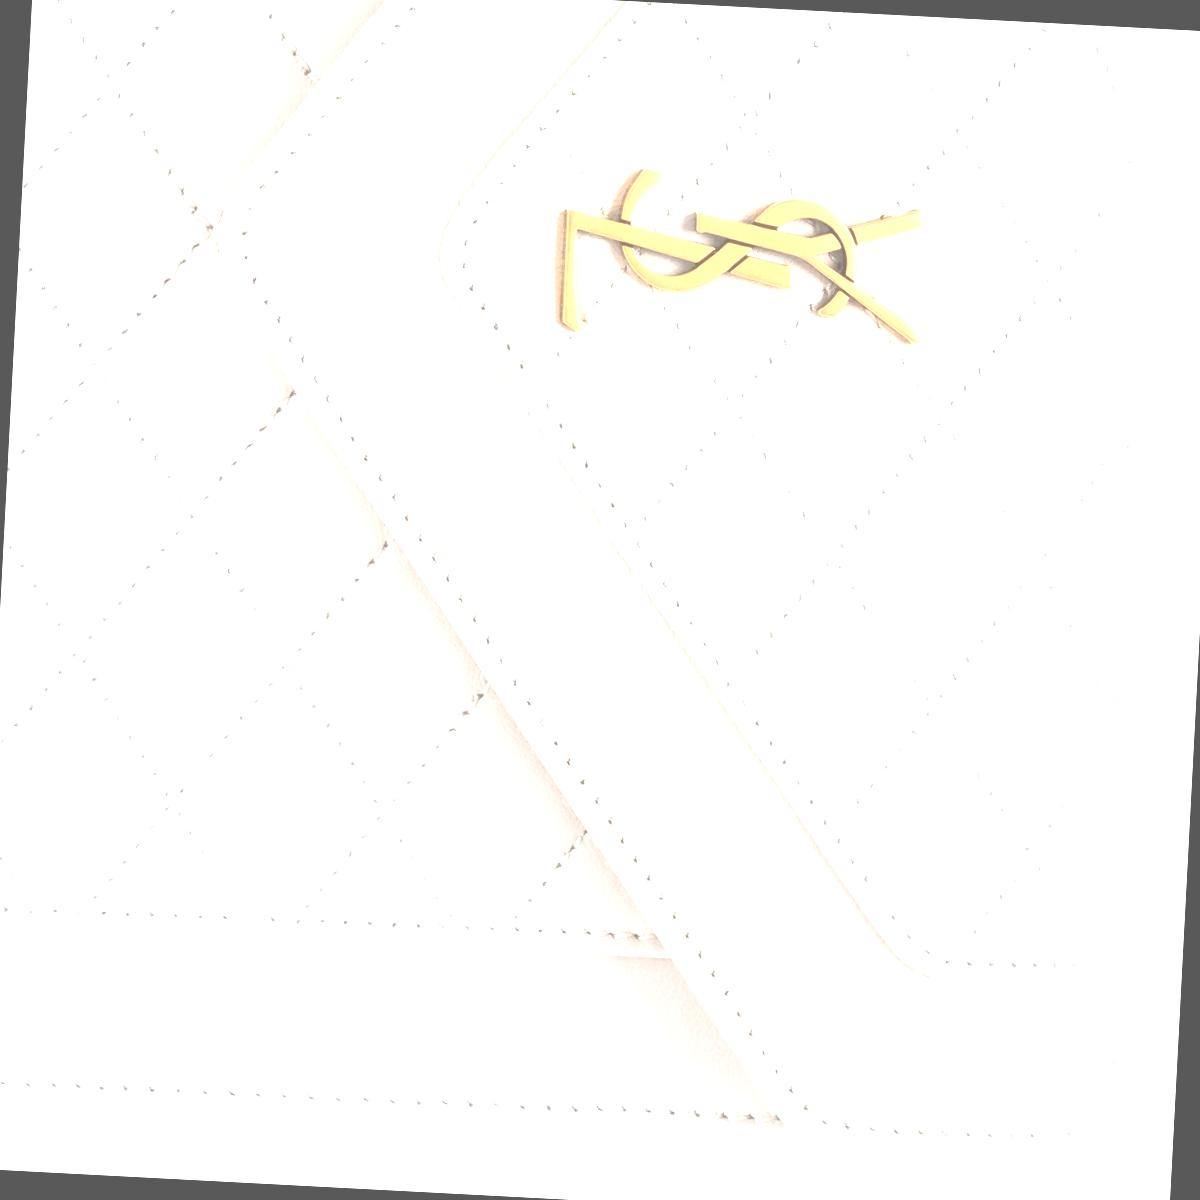YVES-SAINT-LAURENT: (559, 164, 925, 348)
